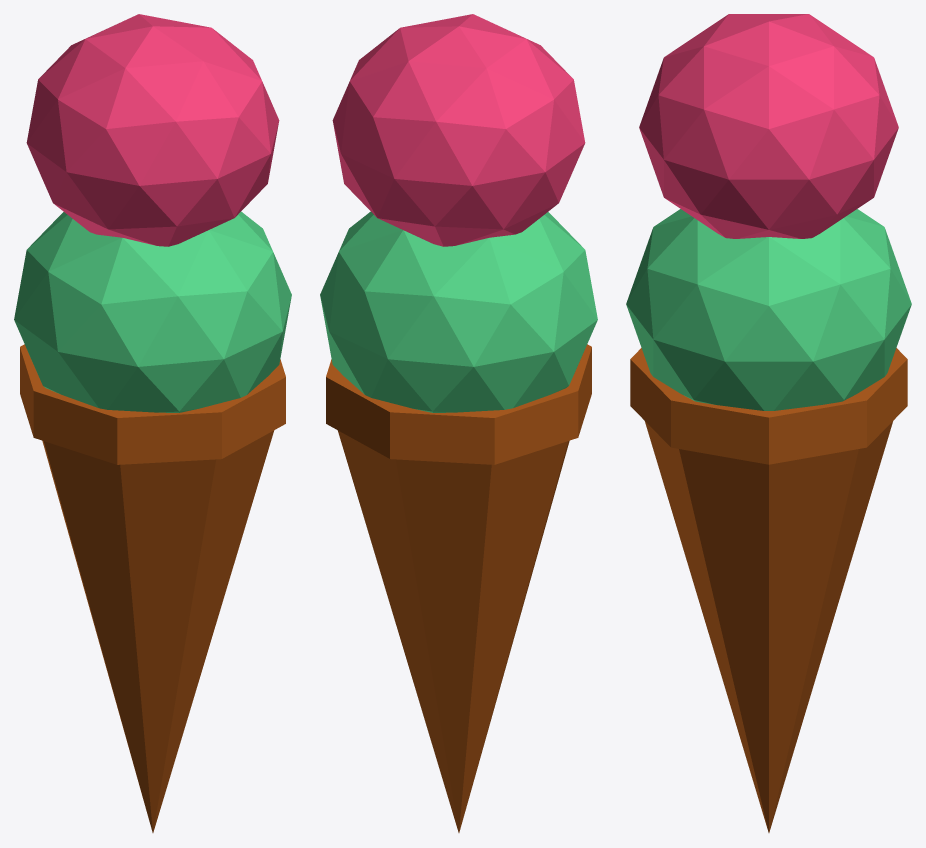
Rendered from ice_cream_cone.obj.
3 views of the same model, side by side, from view 1: azimuth 30°, elevation 25°; view 2: azimuth 150°, elevation 25°; view 3: azimuth 270°, elevation 25° (orthographic).
Parts seen in each view (by area): view 1: ice_cream_cone; view 2: ice_cream_cone; view 3: ice_cream_cone.
Boxes of the visible parts, box(x1,y1,x2,y2) form: ice_cream_cone: box(14, 14, 291, 832); ice_cream_cone: box(320, 14, 597, 832); ice_cream_cone: box(626, 14, 911, 832).
Bounding box in the file's own units: 0.064 × 0.207 × 0.066.
